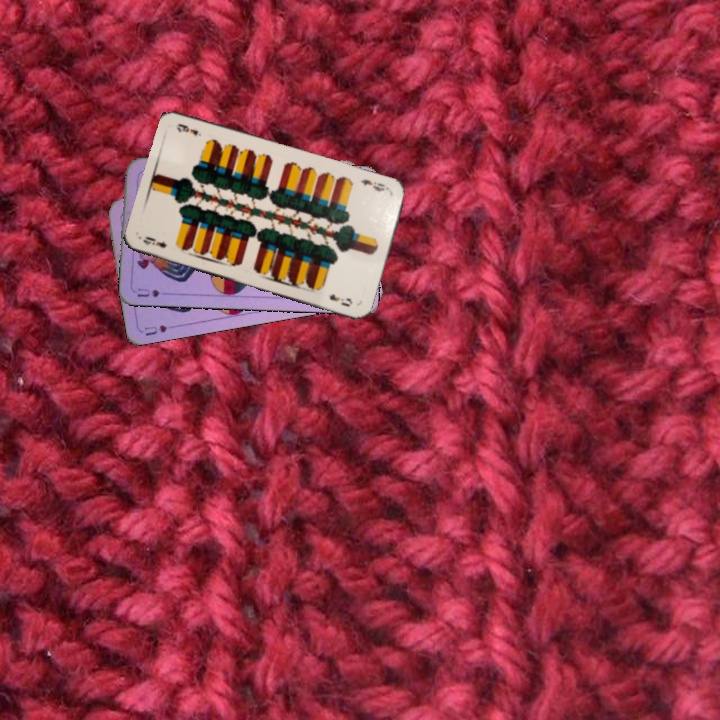E9: (357, 175, 391, 194), (139, 232, 169, 251)
SU: (133, 284, 174, 300), (140, 321, 169, 338)
